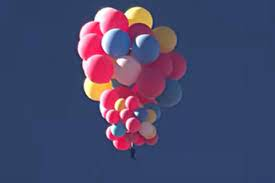Balloon: (137, 68, 166, 97), (101, 28, 130, 56), (132, 33, 159, 62), (114, 55, 140, 85), (85, 54, 111, 82), (152, 27, 177, 54), (77, 33, 102, 56), (141, 121, 156, 138), (113, 136, 130, 151), (125, 117, 139, 133), (105, 109, 119, 123), (111, 123, 126, 136), (125, 95, 138, 109)
